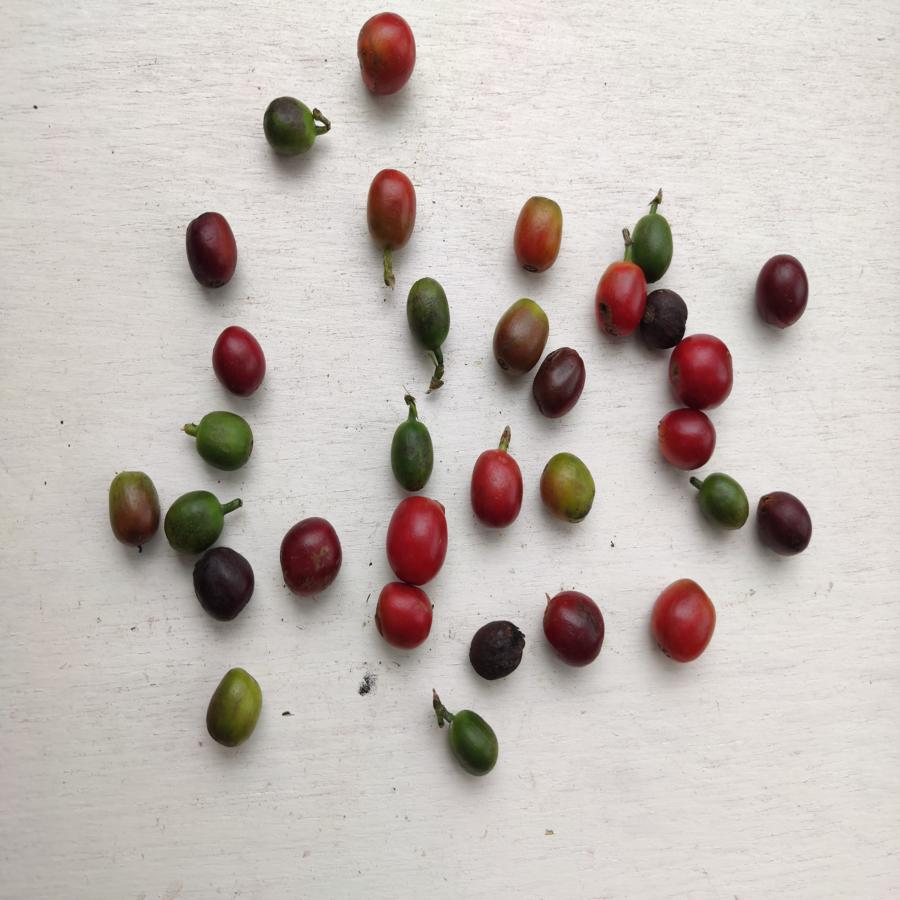Inmaduro: (261, 95, 322, 161), (405, 278, 456, 355), (446, 708, 501, 778), (196, 409, 257, 471), (388, 418, 438, 492), (164, 492, 224, 551), (698, 472, 750, 535), (632, 212, 673, 281)
Maduro: (648, 576, 718, 663), (384, 495, 451, 584), (358, 10, 418, 97), (672, 333, 736, 411), (468, 451, 523, 528), (594, 261, 646, 342), (372, 583, 436, 648), (368, 168, 417, 252), (658, 407, 718, 470)
Pinton: (202, 666, 266, 750), (105, 469, 159, 554), (539, 453, 592, 526), (515, 196, 562, 276), (493, 300, 542, 374)
Sobremaduro: (541, 587, 608, 670), (278, 518, 342, 598), (212, 325, 270, 402), (192, 552, 255, 621), (183, 213, 239, 290), (756, 253, 808, 331), (755, 488, 812, 559), (535, 348, 587, 419), (468, 620, 525, 684), (642, 290, 687, 347)
